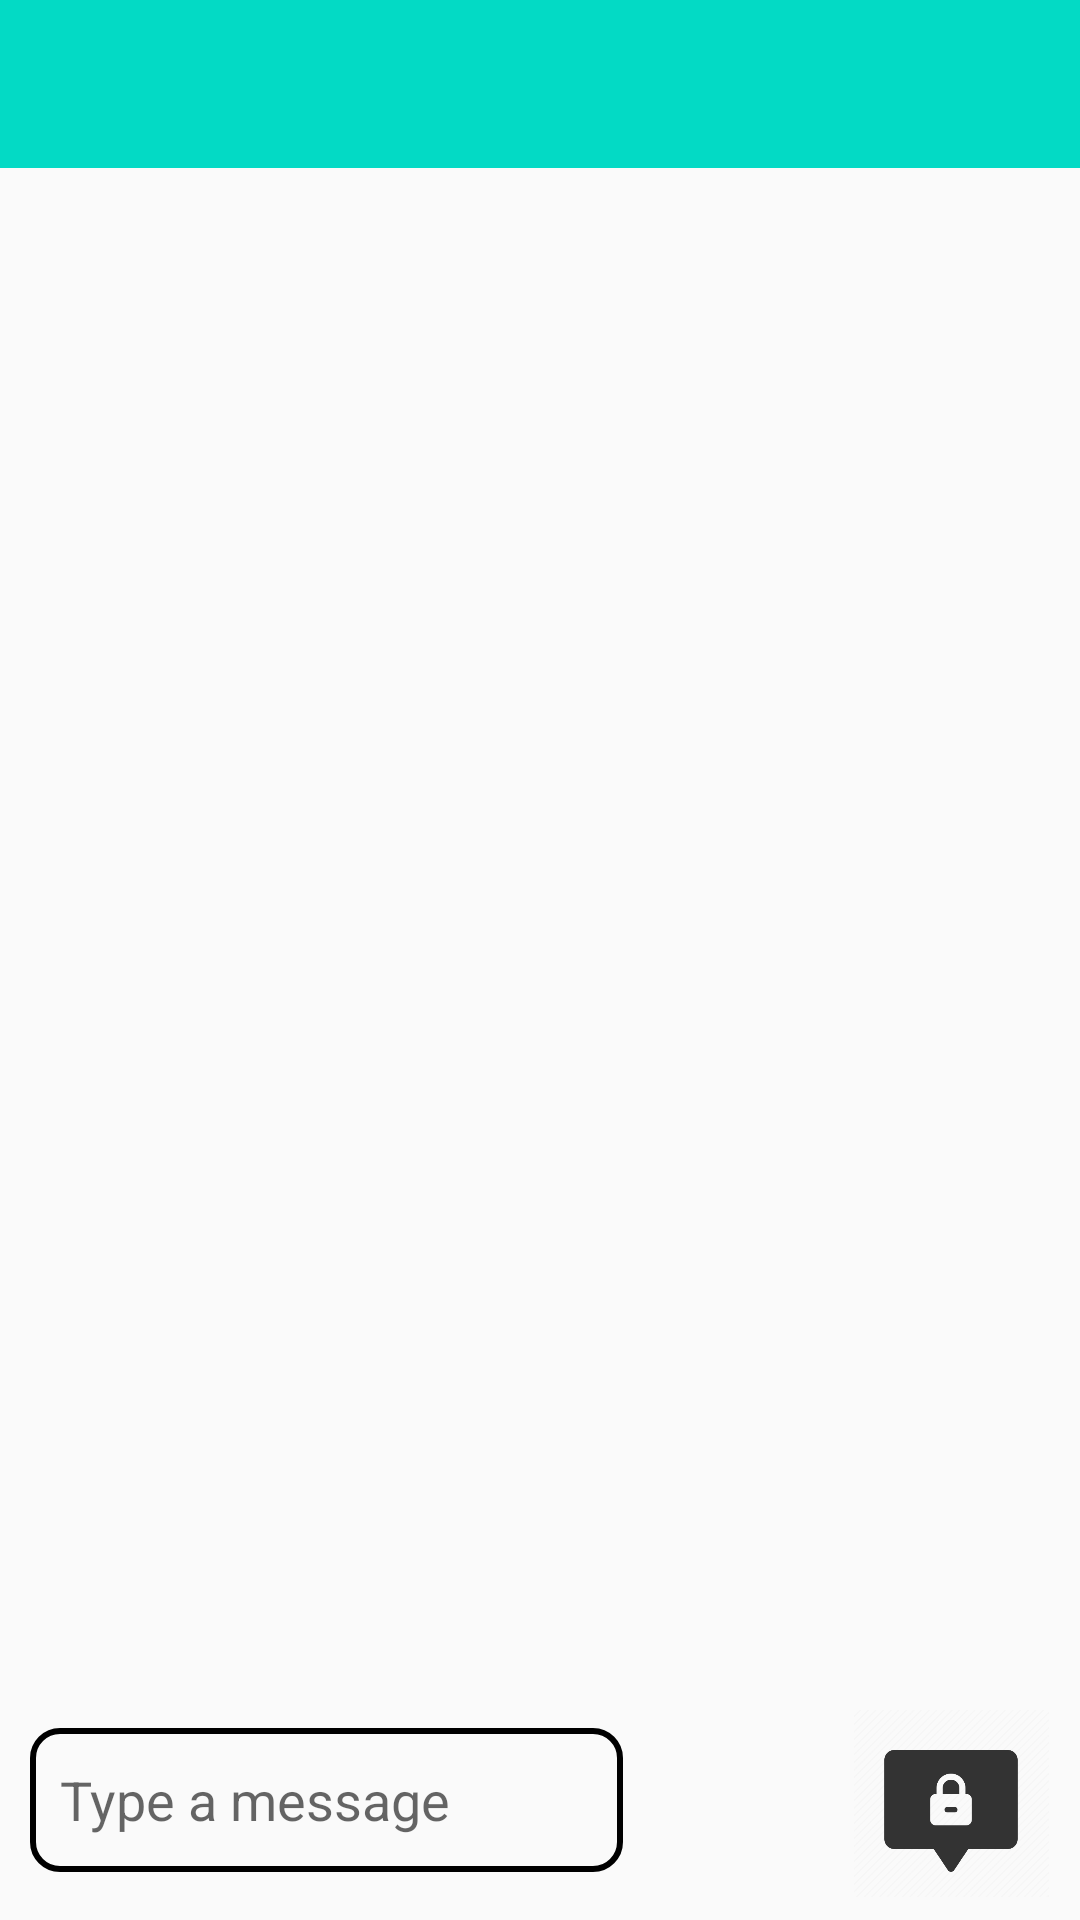

Screen size 1080px x 1920px. Icon name, then its center in pixels as (x,y):
encrypt message: (951,1811)
